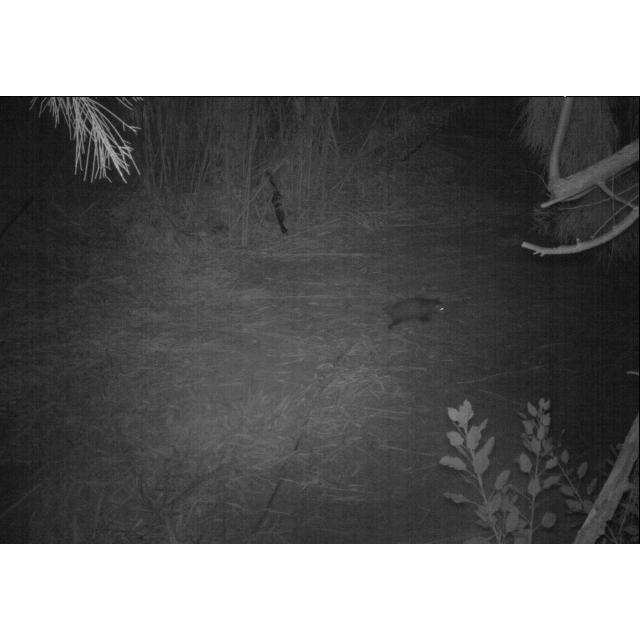animals: (381, 294, 449, 330)
